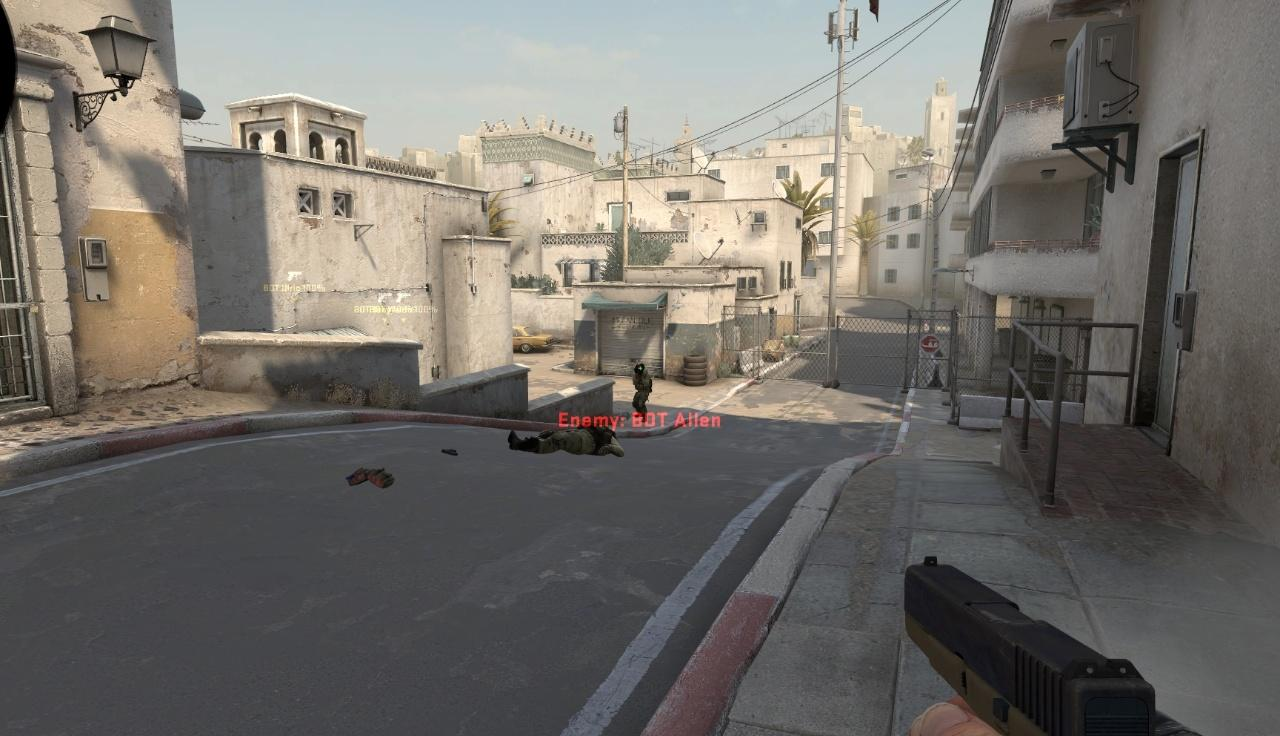ct: (634, 364, 650, 419)
cthead: (636, 364, 645, 374)
pistol: (906, 562, 1163, 736)
